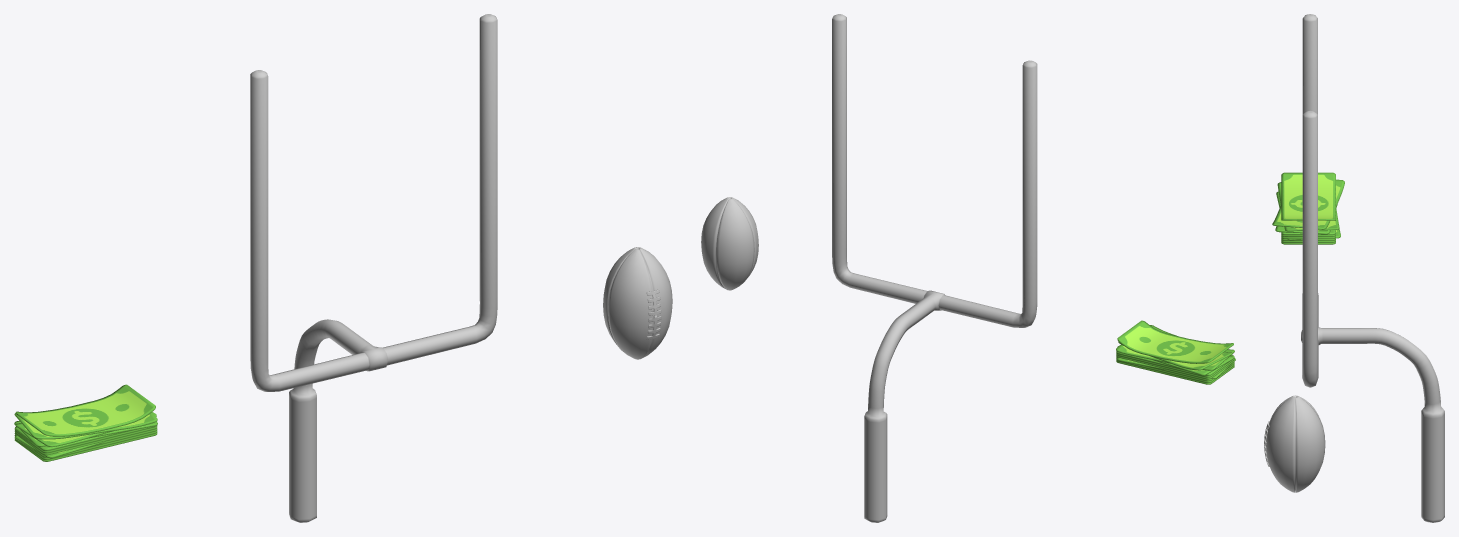
Rendered from SM_money_ball_goalpost.fbx.
The picture shows the model from 3 angles, left to right: view 1: azimuth 30°, elevation 25°; view 2: azimuth 150°, elevation 25°; view 3: azimuth 270°, elevation 25°; orthographic projection. The views are drawn at different scales.
Visible parts, largest first — view 1: kale, money, ball; view 2: kale, money, ball; view 3: kale, ball, money.
Part boxes in pixels (bbox=[...]): kale: bbox=[250, 14, 497, 522]; money: bbox=[14, 384, 157, 461]; ball: bbox=[603, 247, 672, 359]; kale: bbox=[832, 14, 1037, 522]; money: bbox=[1116, 320, 1235, 384]; ball: bbox=[701, 197, 758, 290]; kale: bbox=[1301, 14, 1444, 522]; ball: bbox=[1264, 395, 1325, 492]; money: bbox=[1272, 172, 1344, 244].
Bounding box in the file's own units: 1111 × 882 × 318.
